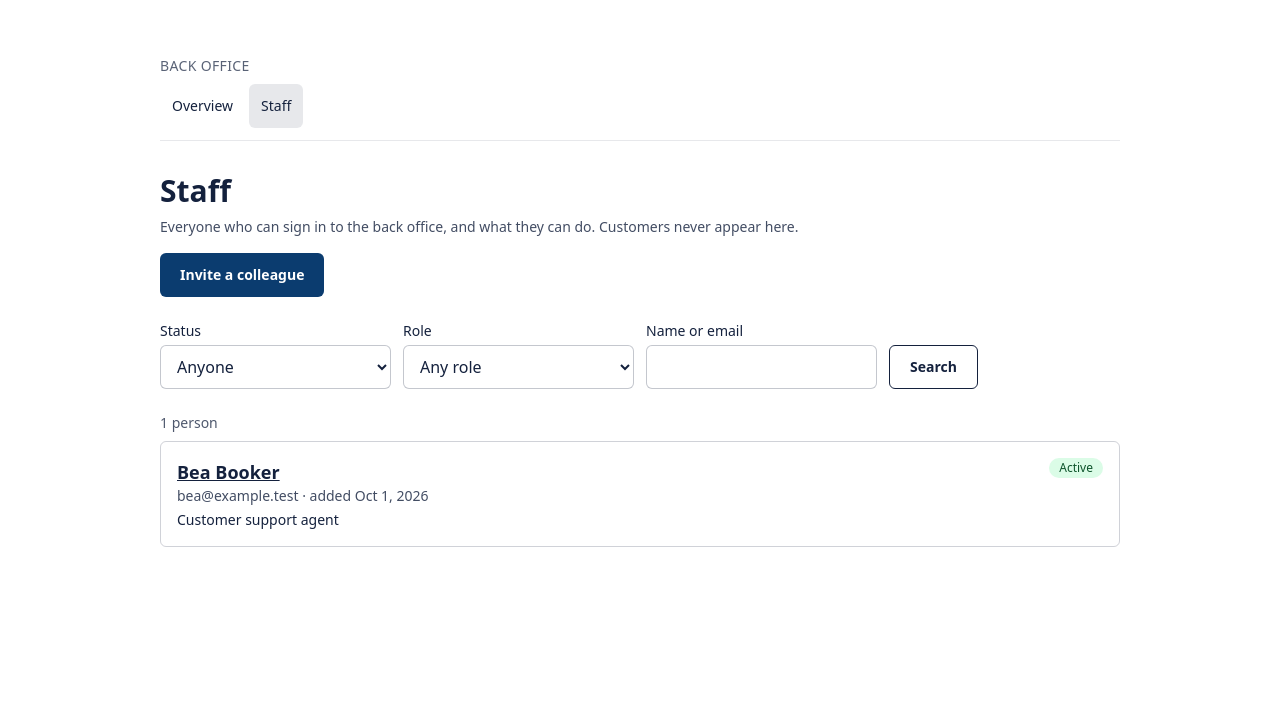
Test: staff list › inviting › lets a super administrator grant it
Click the button "Invite a colleague" at (242, 275), box [160, 253, 324, 297]
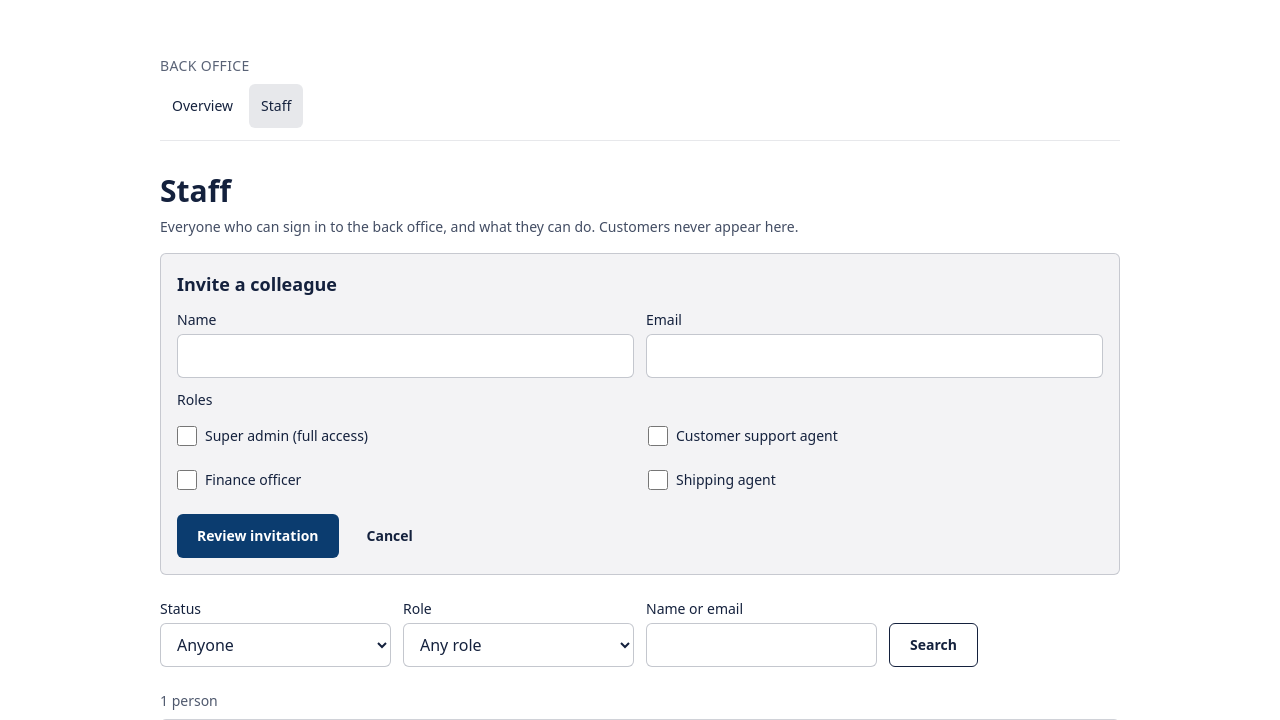
Expected: the checkbox labelled "Super admin (full access)" is enabled, [177, 426, 197, 446]
